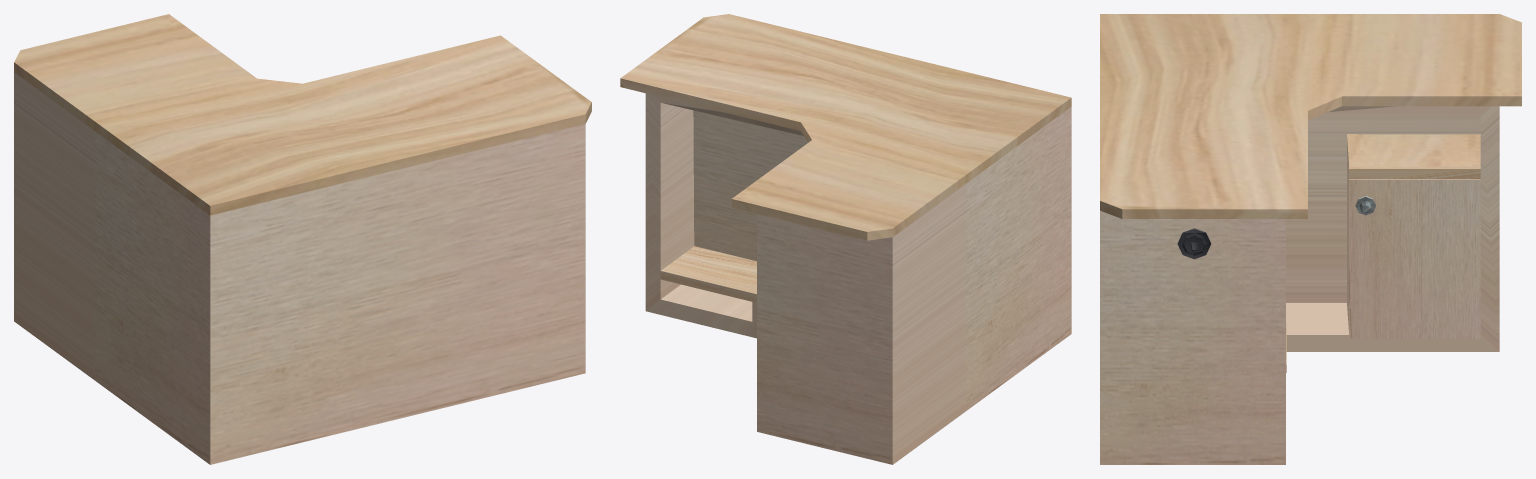
Rendered from desk.FBX.
3 views of the same model, side by side, from view 1: azimuth 30°, elevation 25°; view 2: azimuth 150°, elevation 25°; view 3: azimuth 270°, elevation 25° (orthographic). The views are drawn at different scales.
Visible parts, largest first — view 1: Box001, Object002; view 2: Box001, Object002, Object003; view 3: Box001, Object002, Object001, Object004, Cylinder002.
Boxes of the visible parts, <box> form: Box001: <box>14,72,585,464</box>; Object002: <box>14,14,591,215</box>; Box001: <box>645,93,1071,464</box>; Object002: <box>620,14,1071,240</box>; Object003: <box>660,246,756,302</box>; Box001: <box>1100,106,1499,464</box>; Object002: <box>1100,14,1521,218</box>; Object001: <box>1349,179,1480,338</box>; Object004: <box>1347,134,1480,179</box>; Cylinder002: <box>1177,228,1211,259</box>.
Bounding box in the file's own units: 121 × 76.26 × 110.
4 materials, 4 textured.
